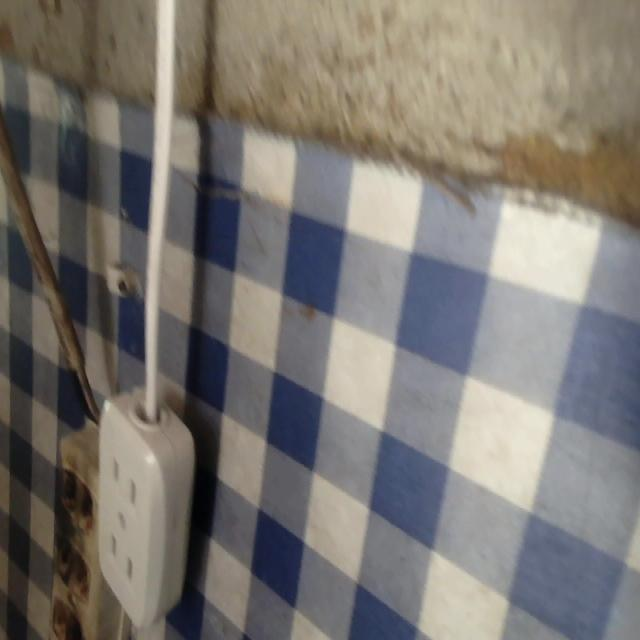-: (57, 463, 99, 525), (50, 531, 91, 588), (47, 589, 89, 636)
